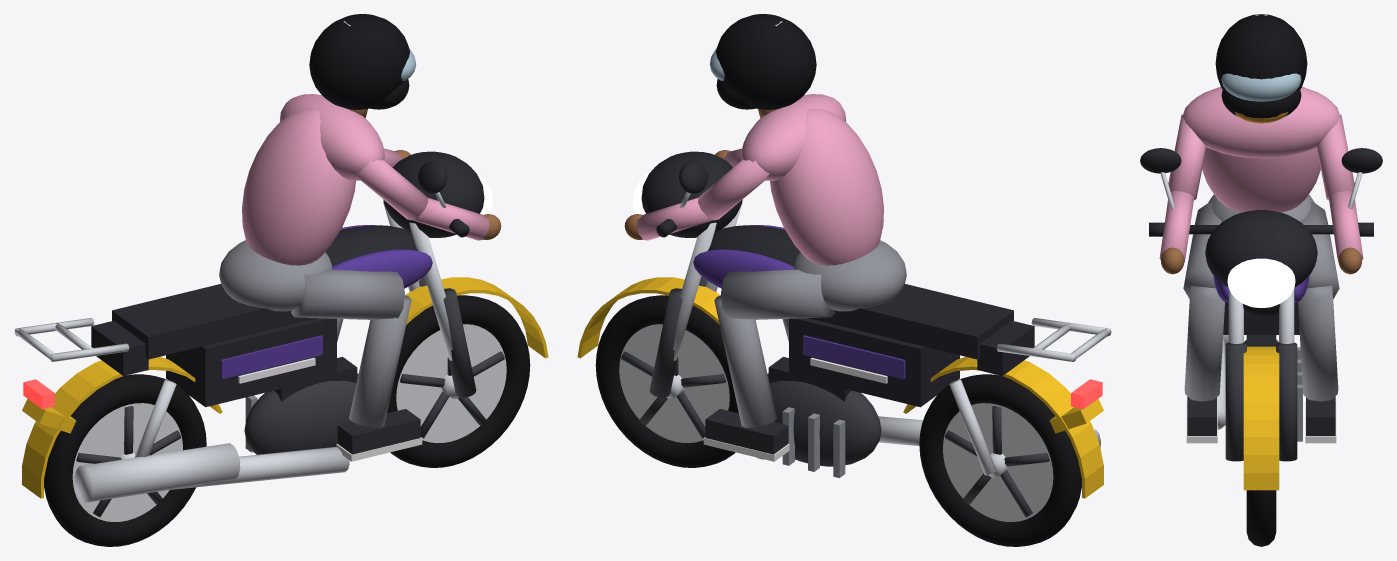
Rendered from pilot.glb.
3 views of the same model, side by side, from view 1: azimuth 30°, elevation 25°; view 2: azimuth 150°, elevation 25°; view 3: azimuth 270°, elevation 25° (orthographic).
Visible parts, largest first — view 1: Sphere.010, Torus, Torus.001, Cube.011, Sphere.015, Cube.006, Cylinder.012, Cylinder.034, Sphere, Cylinder.043, Sphere.012, Cylinder (+23 smaller); view 2: Sphere.010, Torus, Torus.001, Cube.011, Sphere.015, Cylinder, Cube.006, Cylinder.012, Sphere, Cylinder.047, Sphere.012, Cylinder.048 (+24 smaller); view 3: Sphere.011, Sphere.010, Sphere.006, fender.001, Sphere.015, Cylinder.044, Cylinder.048, Sphere.007, Cylinder.025, Cylinder.027, Cylinder.041, Cylinder.045 (+24 smaller).
Part boxes in pixels (x1,y1,x2,y2): Sphere.010: (242, 109, 355, 265); Torus: (44, 374, 206, 546); Torus.001: (387, 295, 530, 467); Cube.011: (112, 284, 317, 359); Sphere.015: (309, 14, 409, 109); Cube.006: (166, 318, 336, 407); Cylinder.012: (396, 324, 506, 442); Cylinder.034: (74, 443, 240, 502); Sphere: (244, 374, 358, 454); Cylinder.043: (291, 269, 404, 319); Sphere.012: (219, 240, 332, 311); Cylinder: (72, 403, 182, 521); Sphere.010: (770, 109, 883, 265); Torus: (919, 374, 1081, 546); Torus.001: (595, 295, 738, 467); Cube.011: (808, 284, 1013, 359); Sphere.015: (716, 14, 816, 109); Cylinder: (943, 403, 1053, 521); Cube.006: (789, 318, 959, 407); Cylinder.012: (619, 324, 729, 442); Sphere: (767, 374, 881, 466); Cylinder.047: (721, 269, 834, 319); Sphere.012: (793, 240, 906, 311); Cylinder.048: (714, 295, 776, 427); Sphere.011: (1182, 86, 1340, 158); Sphere.010: (1202, 147, 1320, 212); Sphere.006: (1205, 210, 1317, 287); fender.001: (1243, 346, 1279, 490); Sphere.015: (1215, 14, 1307, 92); Cylinder.044: (1184, 285, 1224, 401); Cylinder.048: (1298, 285, 1338, 401); Sphere.007: (1227, 258, 1295, 307); Cylinder.025: (1225, 342, 1246, 461); Cylinder.027: (1276, 342, 1297, 461); Cylinder.041: (1168, 114, 1206, 200); Cylinder.045: (1316, 114, 1354, 200).
Size of the model in its own units: 2.01 by 1.77 by 0.82.
